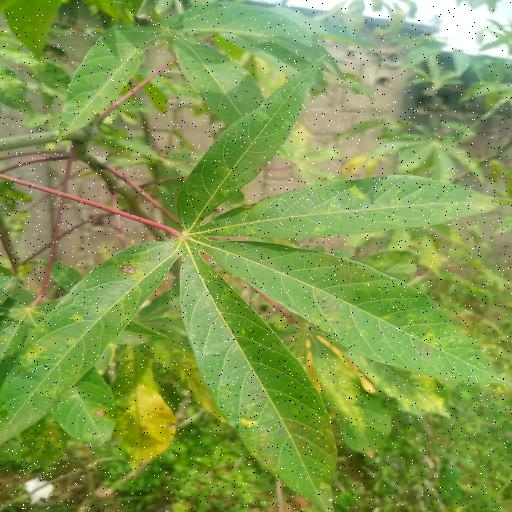Cassava_Brown_Leaf_Spot: (0, 68, 512, 505)
